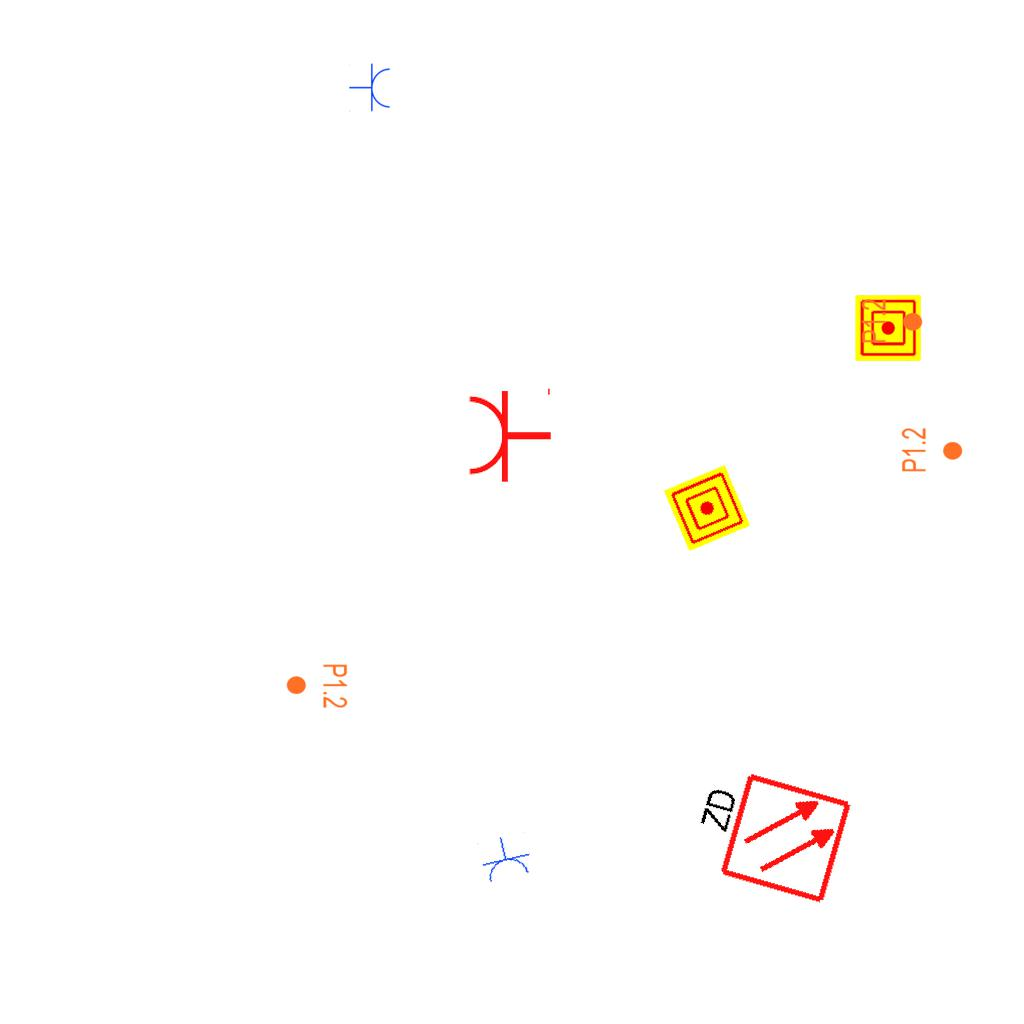Downlight_LED_Einbauleuchten_Flur: (900, 427, 964, 473), (285, 663, 349, 709), (860, 298, 924, 344)
NAM-Nichtautomatischer_Melder: (663, 464, 751, 552), (855, 295, 921, 361)
Schukosteckdose_einfach: (466, 384, 553, 484), (475, 831, 535, 886), (349, 63, 392, 113)
ZD_Melder_in_Zwischendecke_mit_Revisionsoeffnung_mind_40_x_40_cm: (679, 759, 855, 910)
